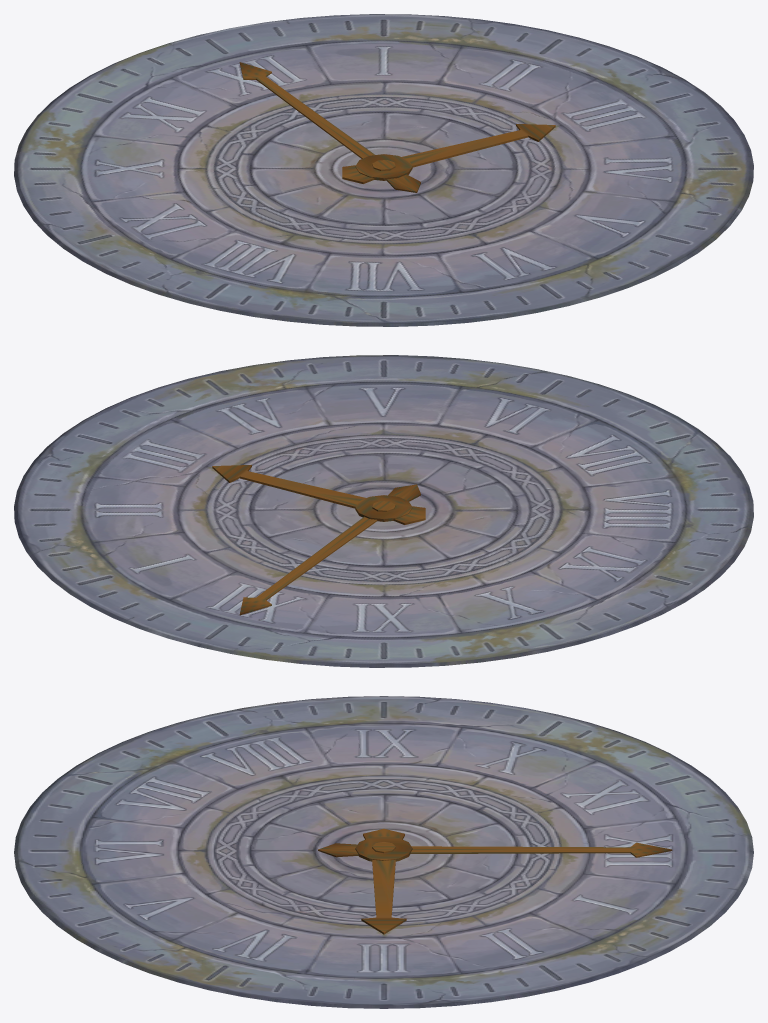
The model's file is dial.glb.
3 views of the same model, one above another, from view 1: azimuth 30°, elevation 25°; view 2: azimuth 150°, elevation 25°; view 3: azimuth 270°, elevation 25° (orthographic).
Parts seen in each view (by area): view 1: dial; view 2: dial; view 3: dial.
Boxes of the visible parts, x1=… form: dial: x1=14, y1=14, x2=753, y2=326; dial: x1=14, y1=355, x2=753, y2=667; dial: x1=14, y1=696, x2=753, y2=1008.
Size of the model in its own units: 24.64 by 0.21 by 24.64.
1 material, 1 textured.
